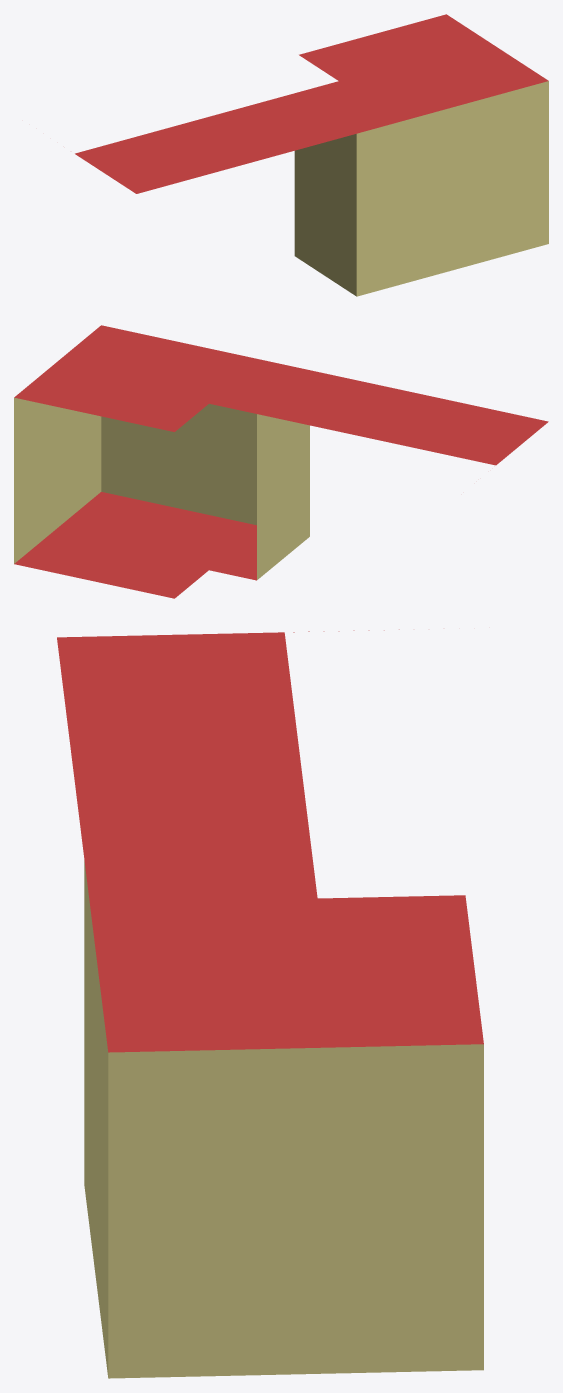
3 views of the same model, one above another, from view 1: azimuth 30°, elevation 25°; view 2: azimuth 150°, elevation 25°; view 3: azimuth 270°, elevation 25° (orthographic). The views are drawn at different scales.
Size of the model in its own units: 17.46 by 7.8 by 6.24.
